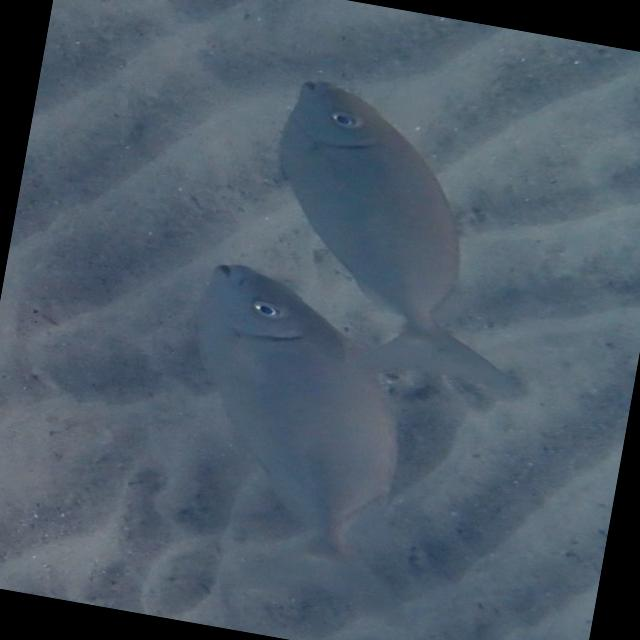Sokar Baligi: (122, 250, 460, 623)
